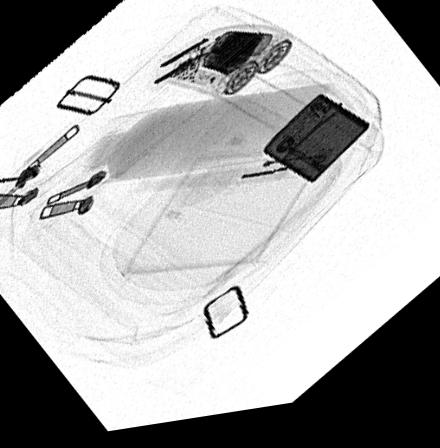Lighter: (264, 101, 373, 194)
